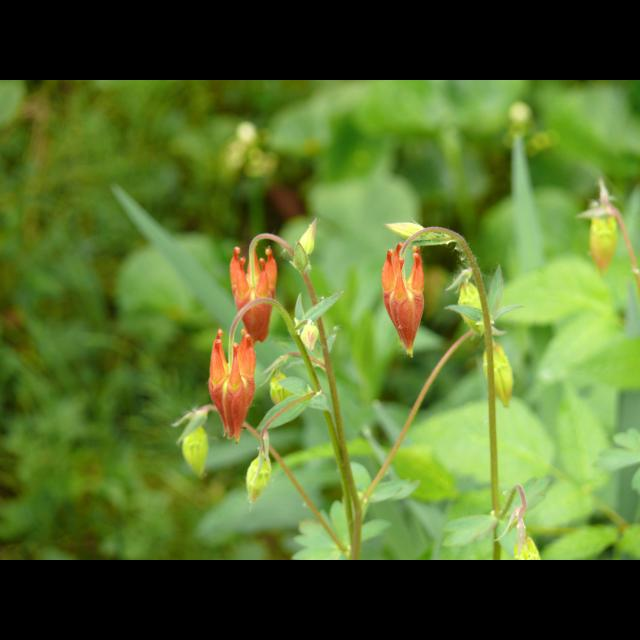Flower: (381, 240, 427, 360), (208, 326, 254, 444), (230, 244, 278, 344), (586, 213, 620, 275), (268, 370, 294, 402), (298, 318, 318, 350)
